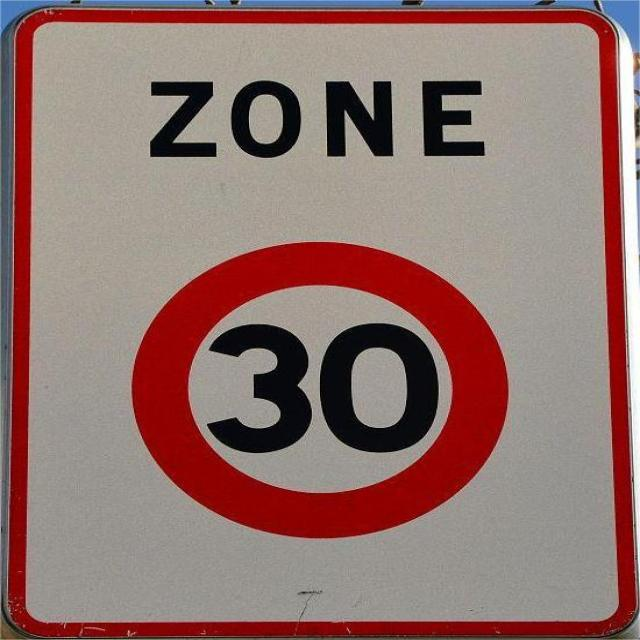speed limit 30: (129, 241, 512, 537)
